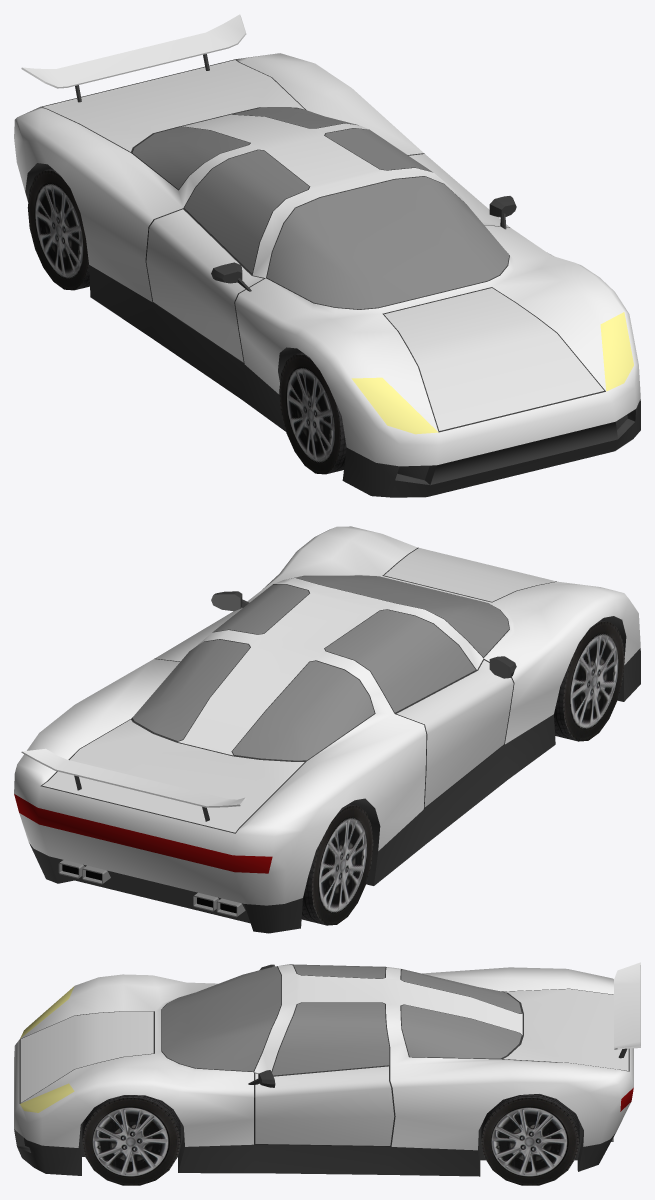
File: Car 13.FBX
The picture shows the model from 3 angles, top to bottom: view 1: azimuth 30°, elevation 25°; view 2: azimuth 150°, elevation 25°; view 3: azimuth 270°, elevation 25°; orthographic projection. The views are drawn at different scales.
Visible parts, largest first — view 1: Car 13; view 2: Car 13; view 3: Car 13.
Part boxes in pixels (left/top/right/bottom): Car 13: left=14, top=14, right=640, bottom=497; Car 13: left=14, top=526, right=640, bottom=933; Car 13: left=14, top=962, right=640, bottom=1185.
Bounding box in the file's own units: 2.14 × 1.22 × 4.88.
